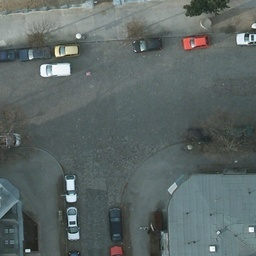car: (219, 122, 254, 142), (185, 124, 215, 145), (132, 35, 166, 53), (16, 45, 51, 62), (108, 206, 124, 239), (67, 205, 82, 240), (40, 62, 70, 78), (183, 34, 209, 51), (0, 128, 22, 148), (65, 173, 78, 203), (54, 45, 80, 58), (0, 51, 15, 63)
